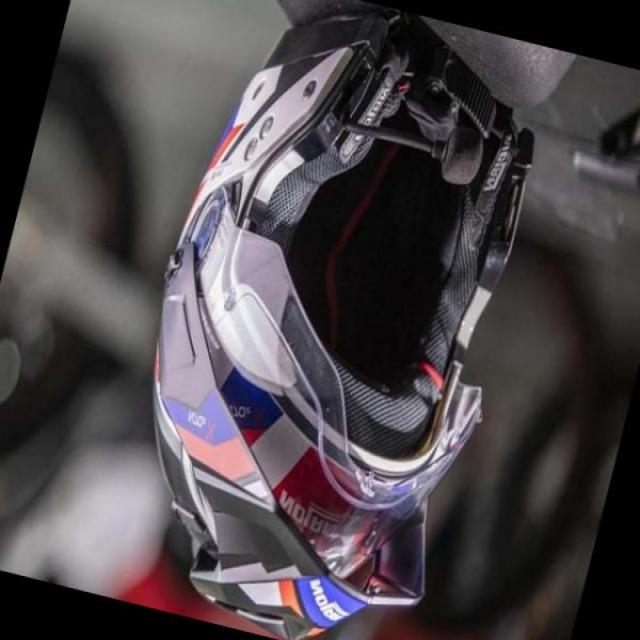Helmet: (149, 4, 536, 632)
